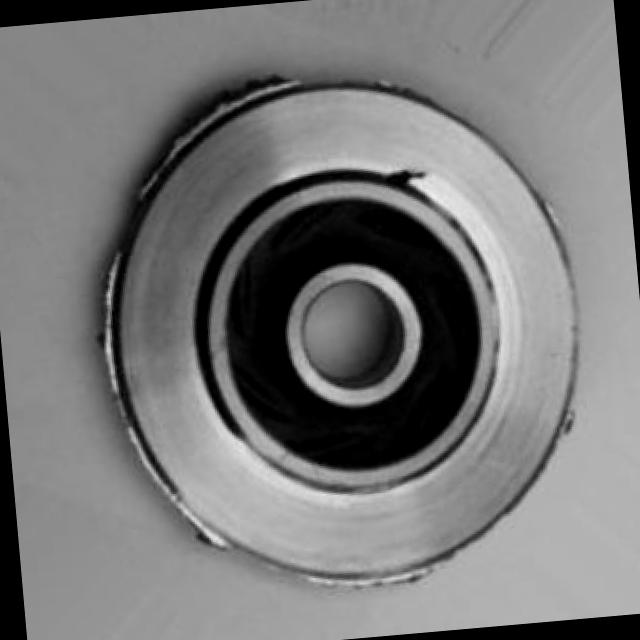Defect: (382, 152, 436, 202)
